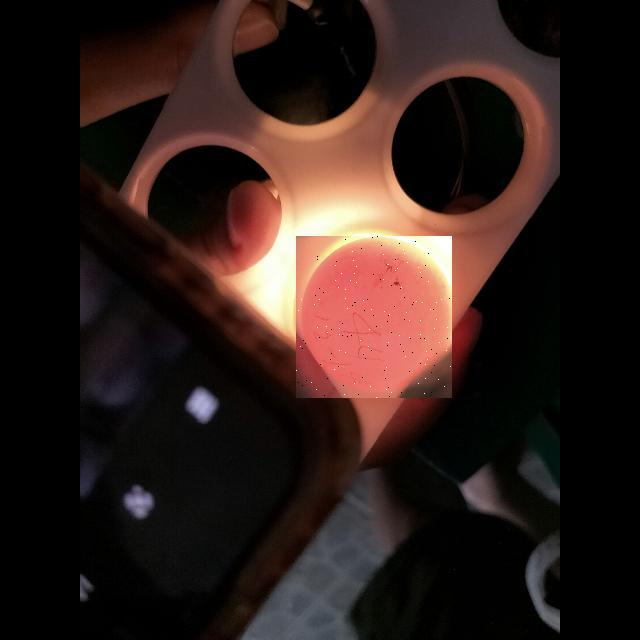Infertile: (296, 236, 452, 398)
